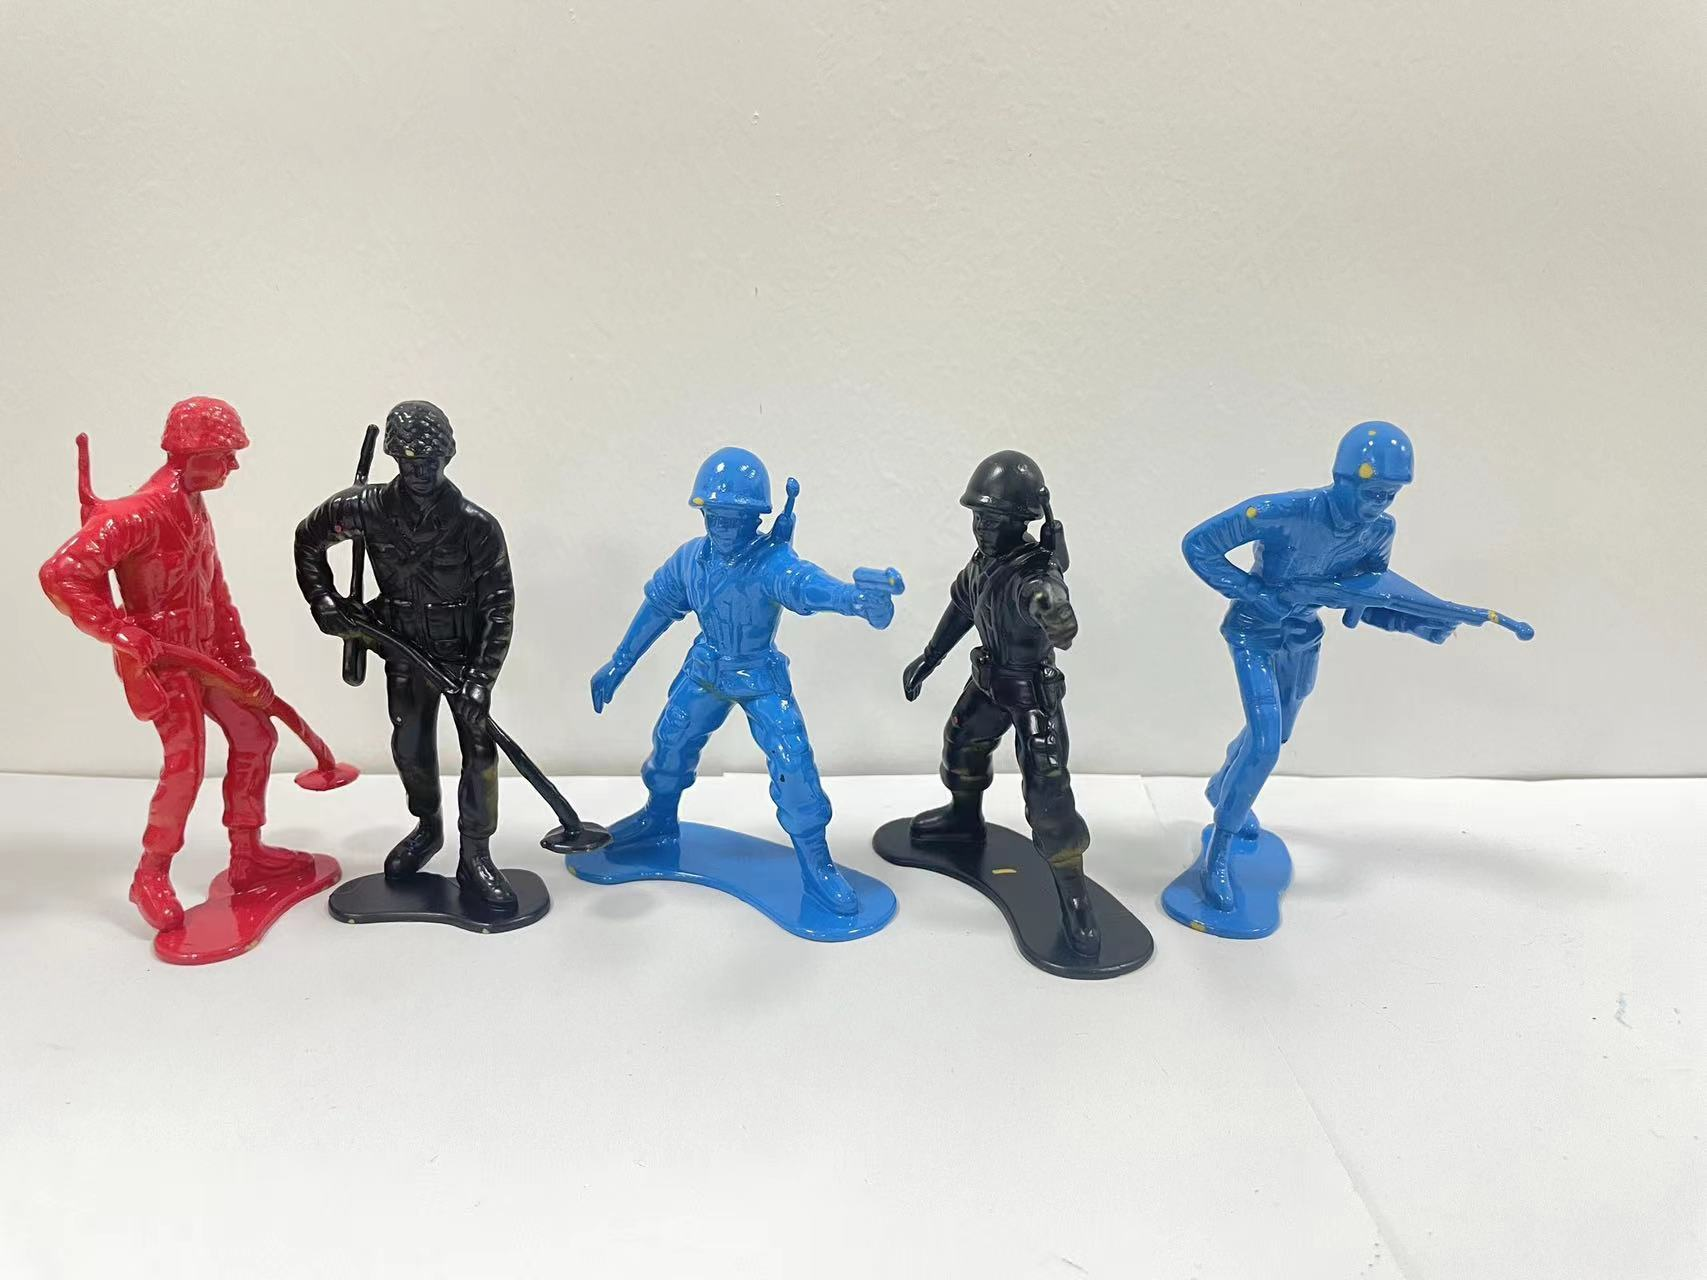black: (272, 385, 574, 994), (915, 436, 1142, 994)
blue: (1147, 397, 1578, 996), (581, 403, 905, 965)
red: (17, 354, 310, 994)
